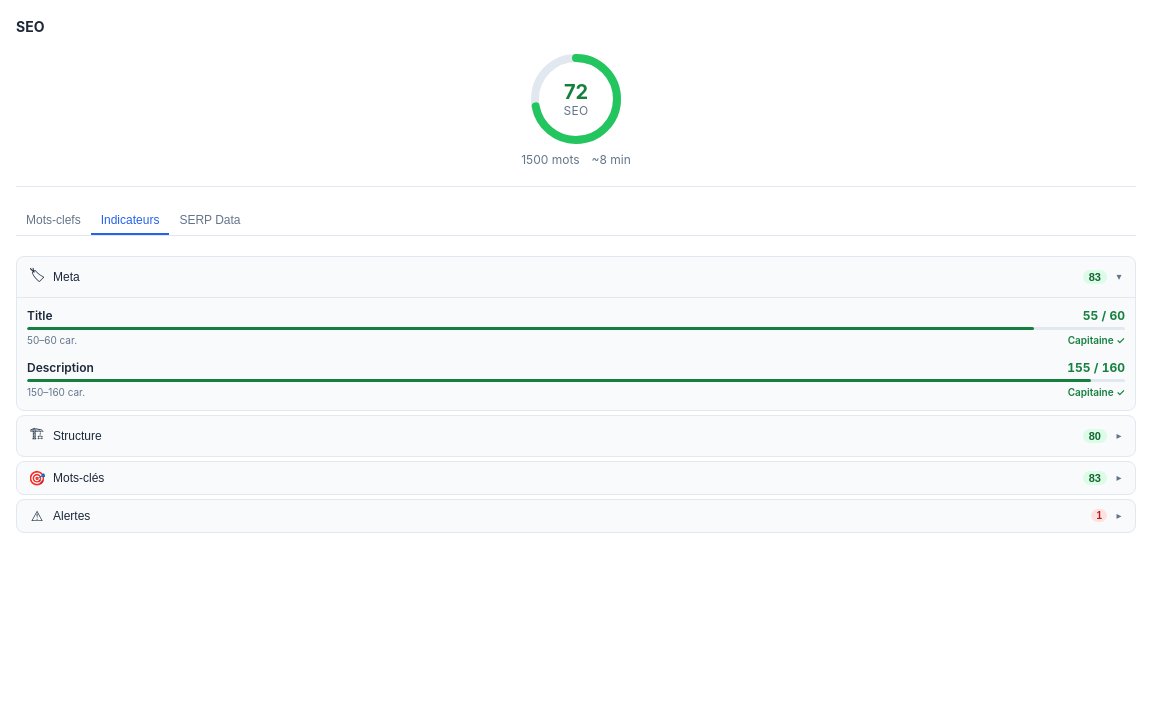
Test case: SeoPanel › shows SeoKeywordChip when keywords exist and category is capitaine
Click the tab with class "seo-tab" showing "Mots-clefs" at (53, 221), box [16,207,91,235]
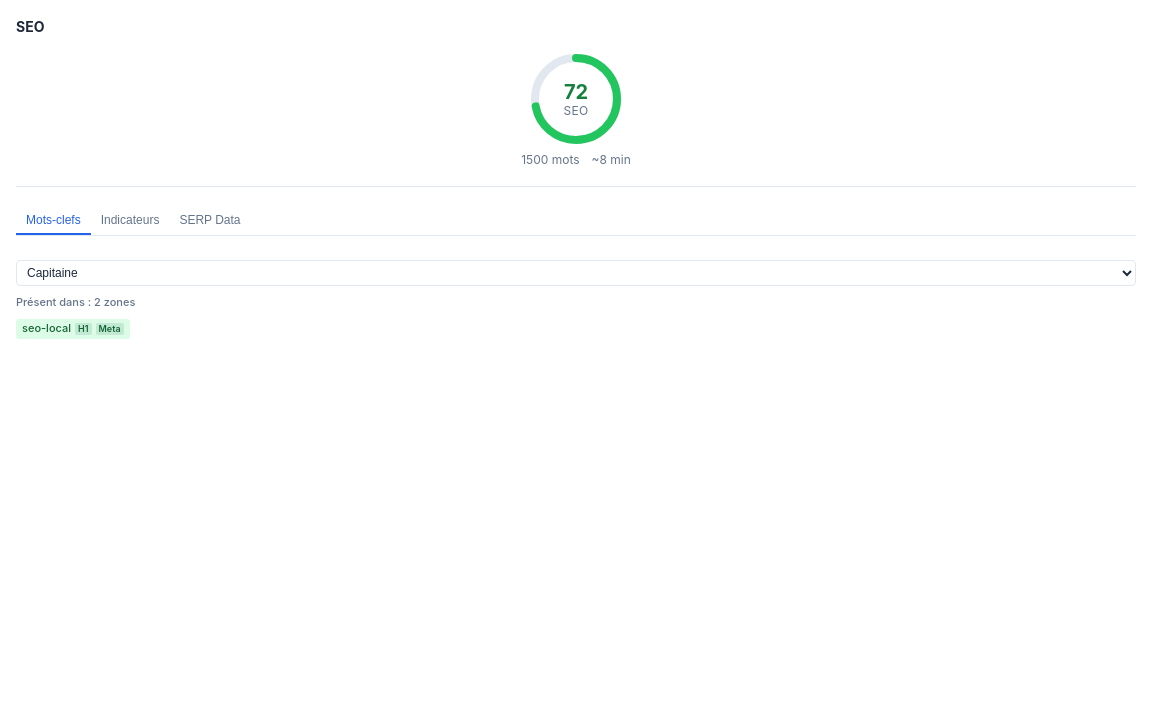
Expected: the element with class "seo-chip" is shown, [16,319,130,339]
Expected: the text with class "chip-keyword" reads "seo-local", [22,321,71,335]
